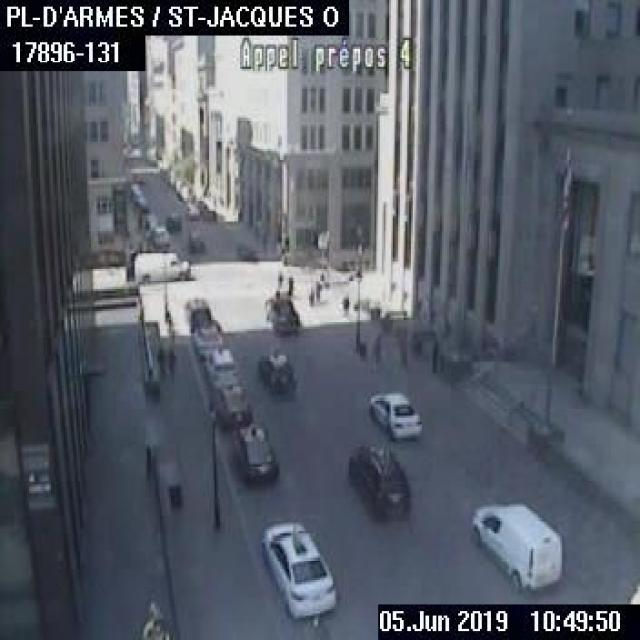pedestrian: (371, 334, 382, 362), (156, 344, 164, 376), (167, 345, 174, 373), (340, 293, 348, 316), (314, 276, 321, 302), (286, 274, 292, 294)
vehicle: (467, 500, 562, 589), (260, 520, 336, 622), (344, 443, 409, 522), (232, 423, 278, 482), (368, 389, 420, 440), (133, 250, 189, 282), (256, 351, 294, 393), (214, 384, 251, 426), (264, 294, 298, 335), (205, 346, 238, 388), (190, 319, 221, 356), (183, 294, 210, 331), (186, 229, 204, 252), (152, 226, 168, 246), (165, 212, 180, 229), (185, 203, 198, 217), (307, 284, 313, 304)
